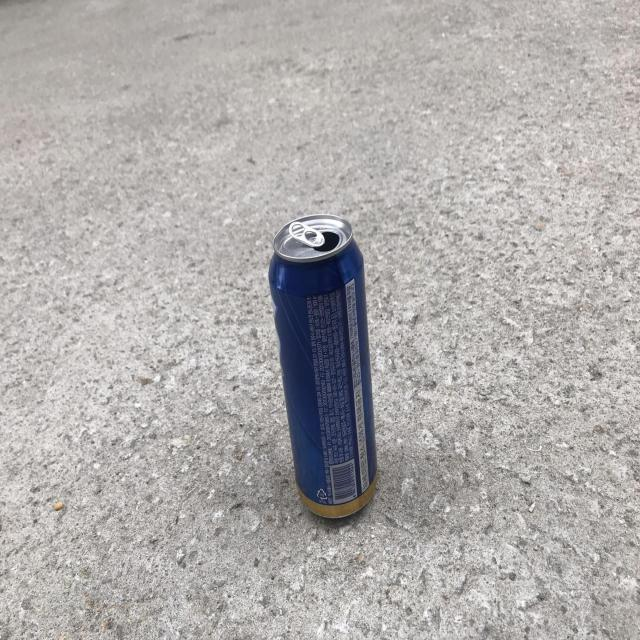can: (269, 214, 378, 518)
